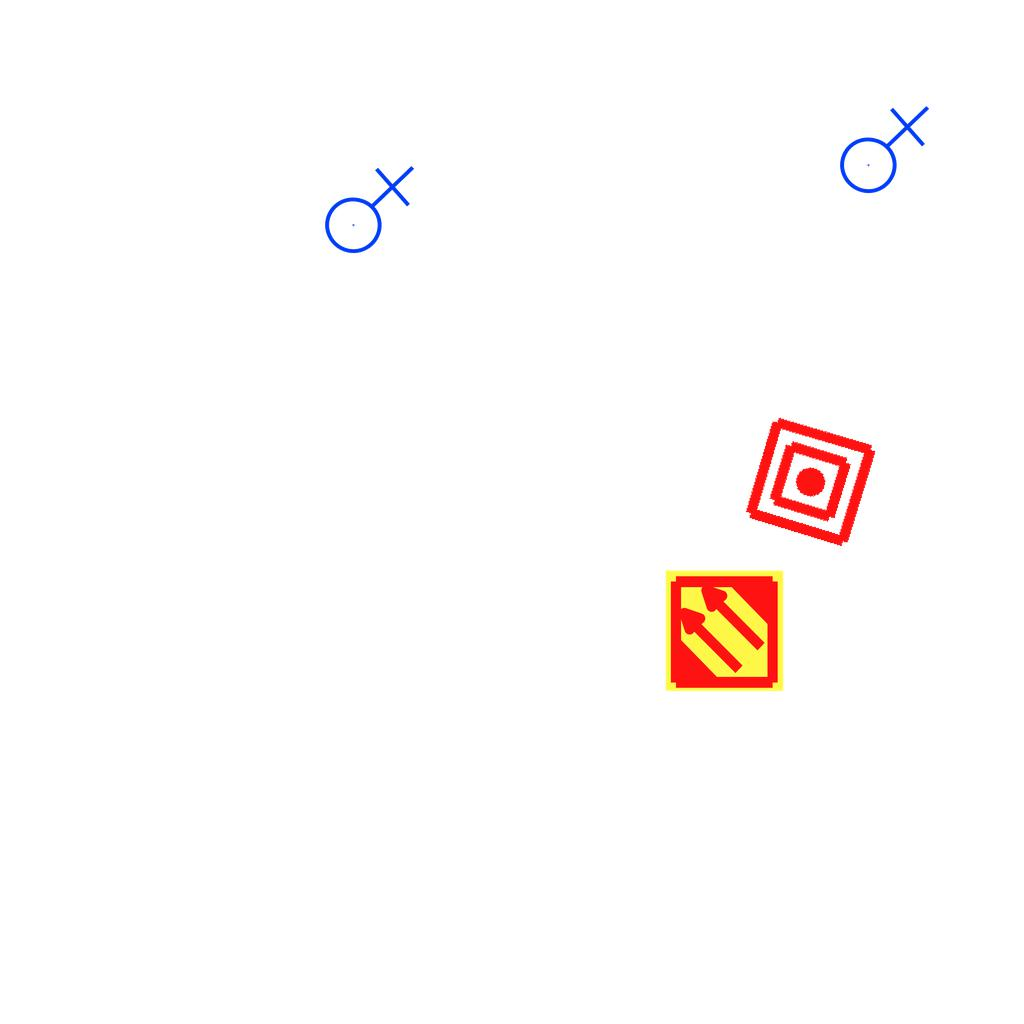ASR_Ansaugrauchmelder: (662, 568, 787, 693)
Elektroanschluss_allgemein_230V_Geraeteanschlussdose_230V: (316, 161, 415, 255), (831, 101, 930, 195)
NAM-Nichtautomatischer_Melder: (739, 410, 882, 553)
